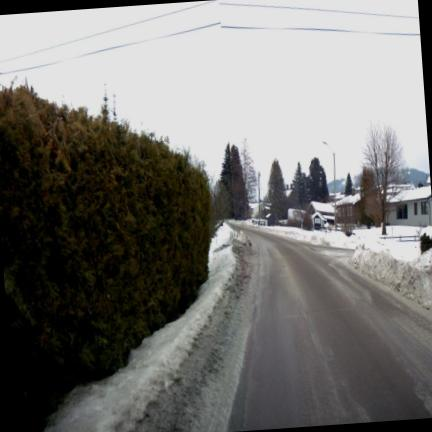Road: (229, 230, 431, 429)
